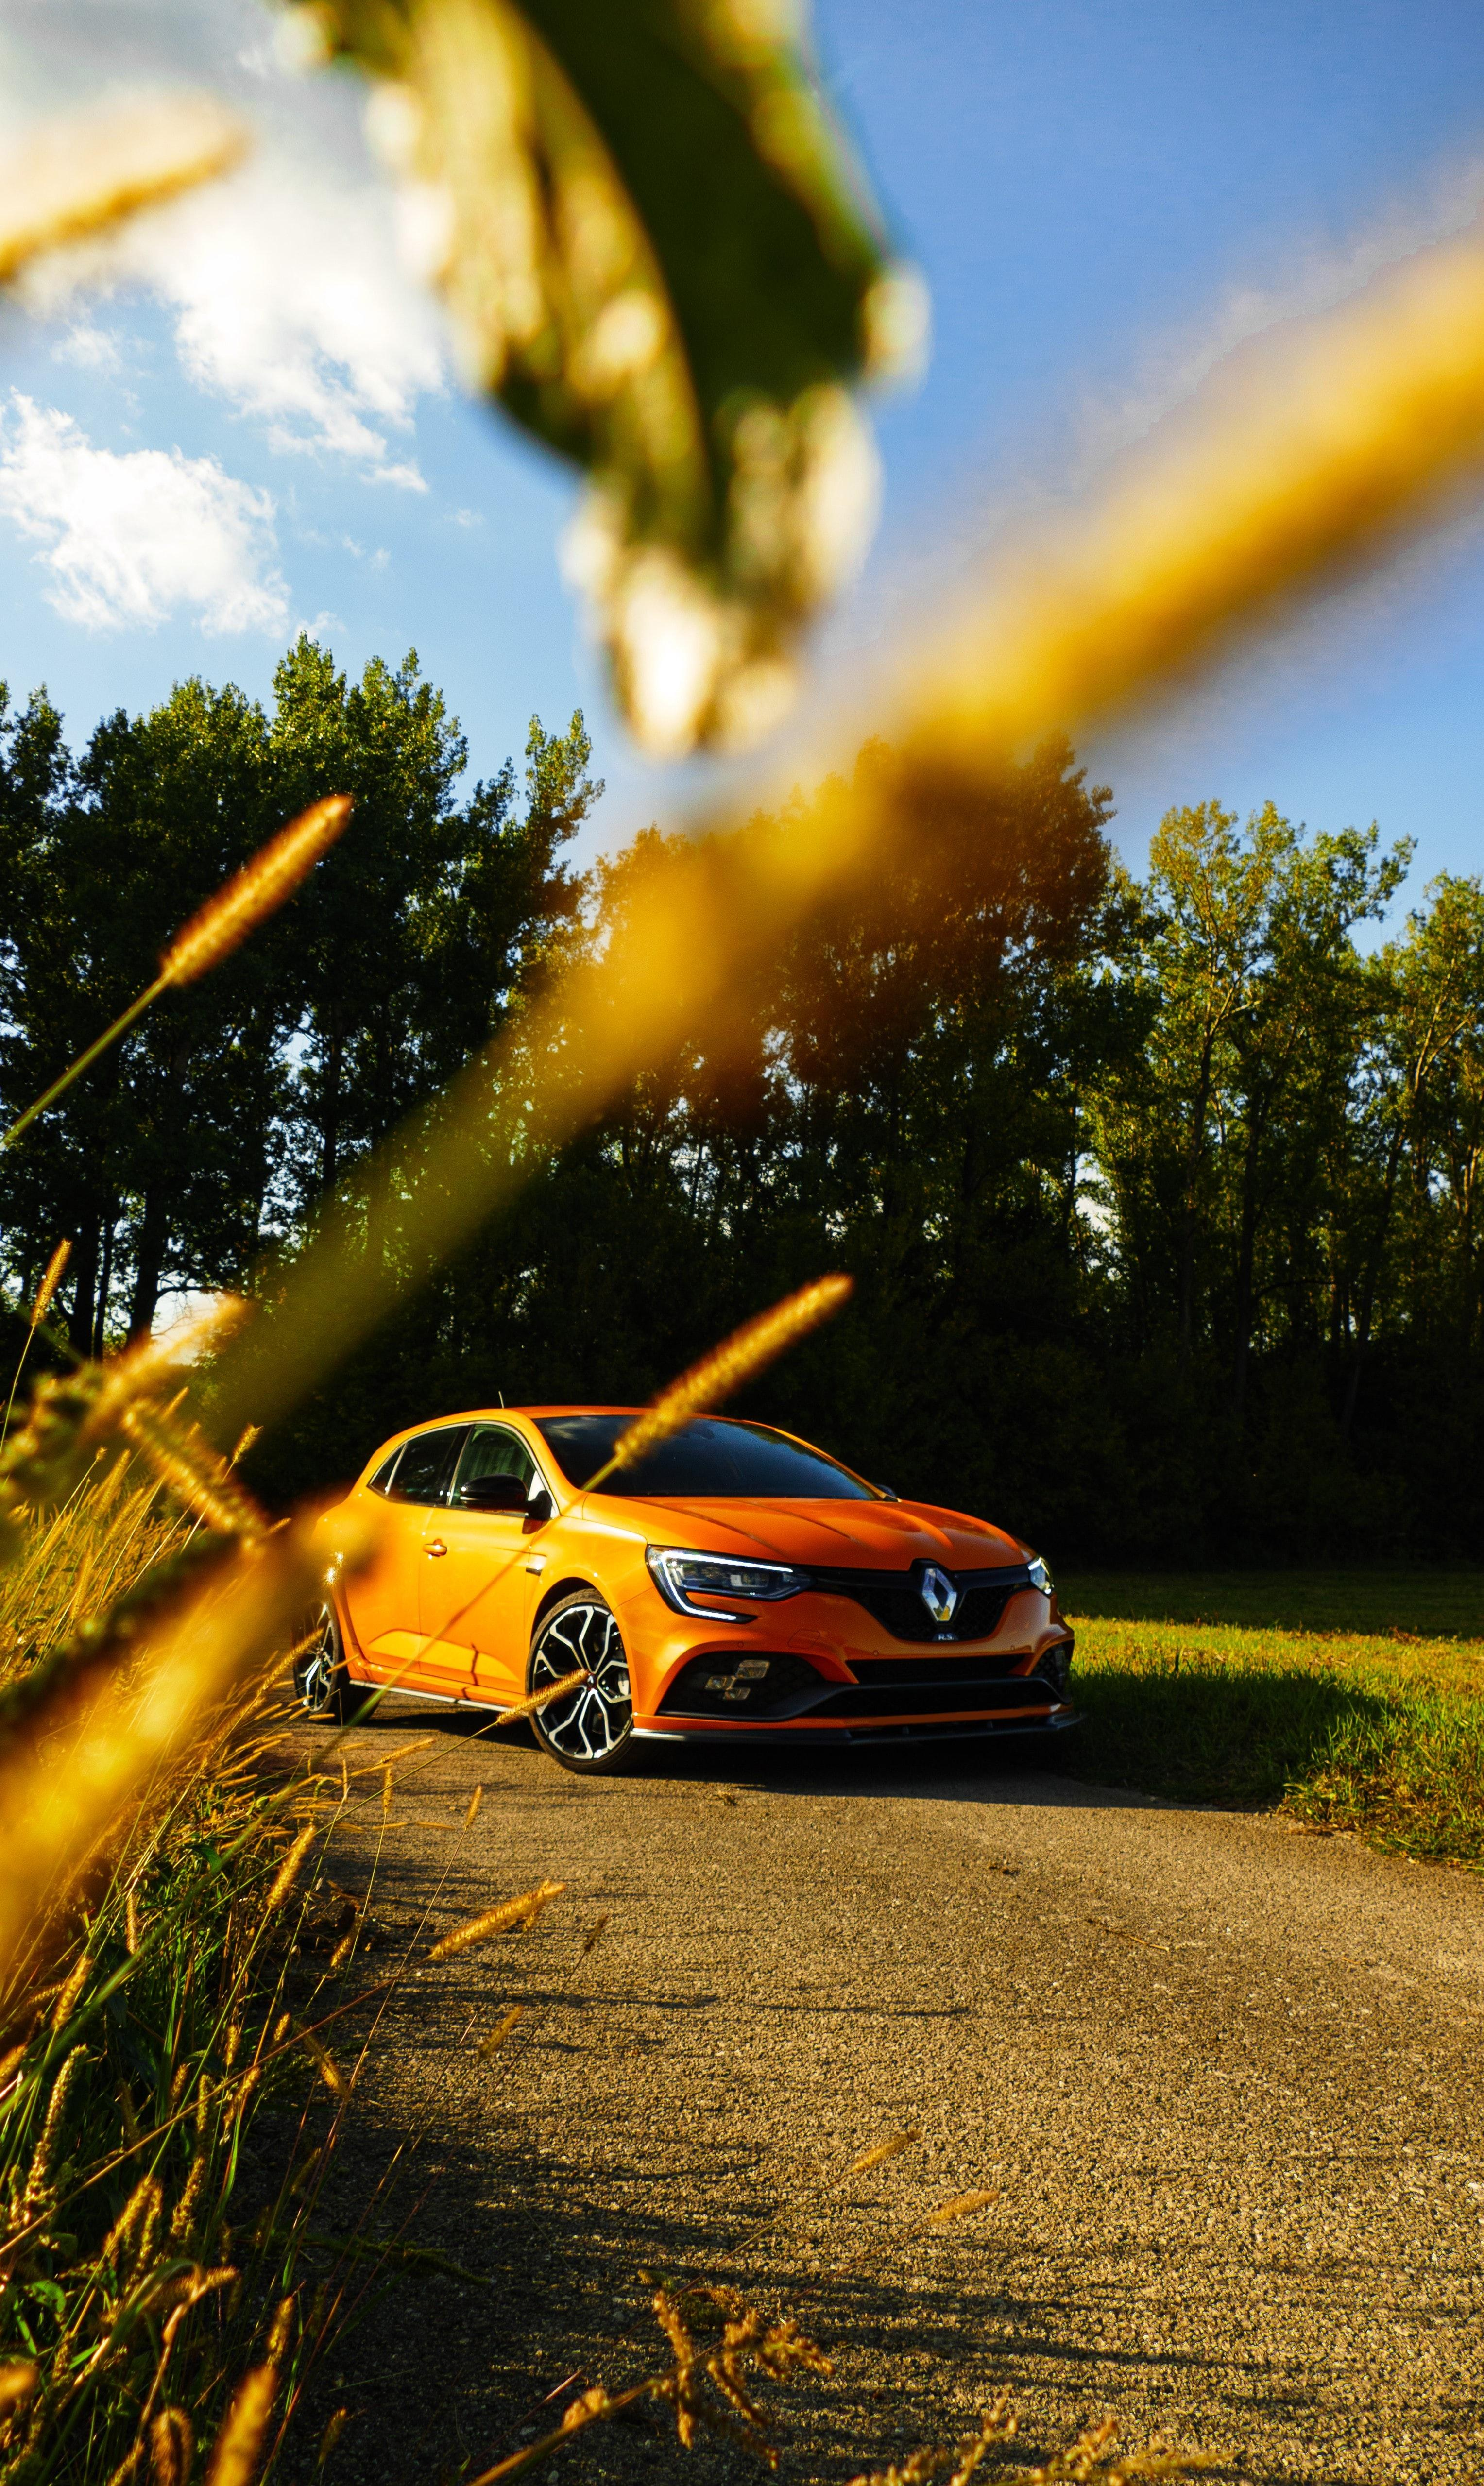Renault: (901, 1550, 970, 1647)
